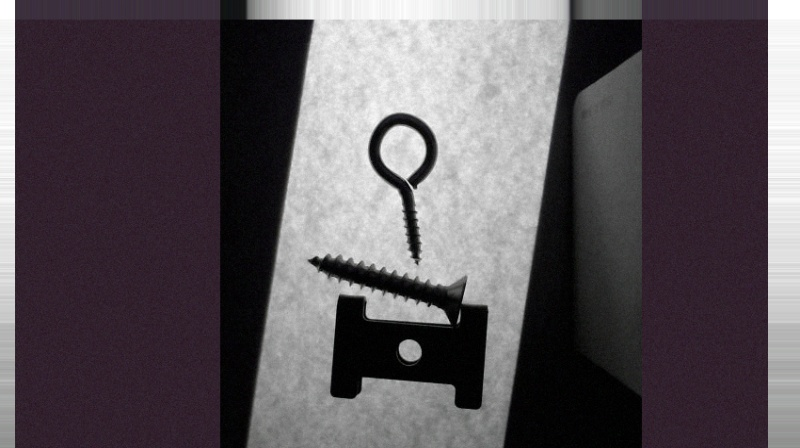O001: (366, 109, 438, 266)
O002: (330, 295, 489, 408)
S001: (306, 254, 467, 327)
